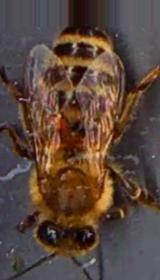varroa_mite: (39, 106, 70, 136)
